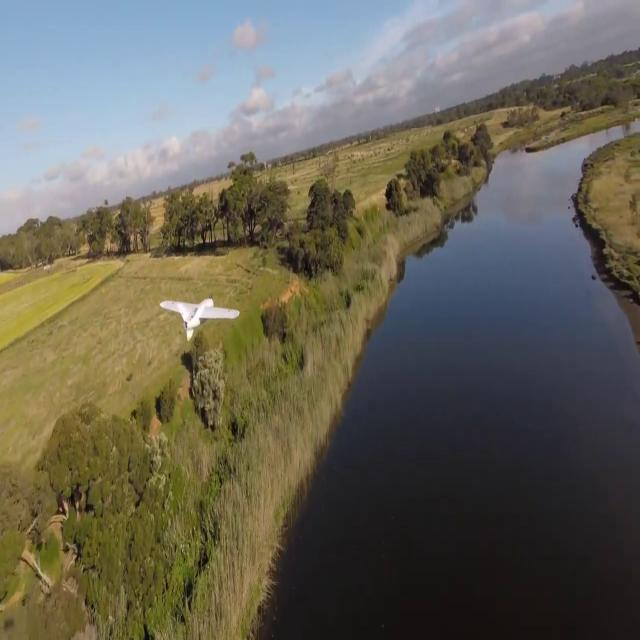iha: (184, 294, 203, 329)
